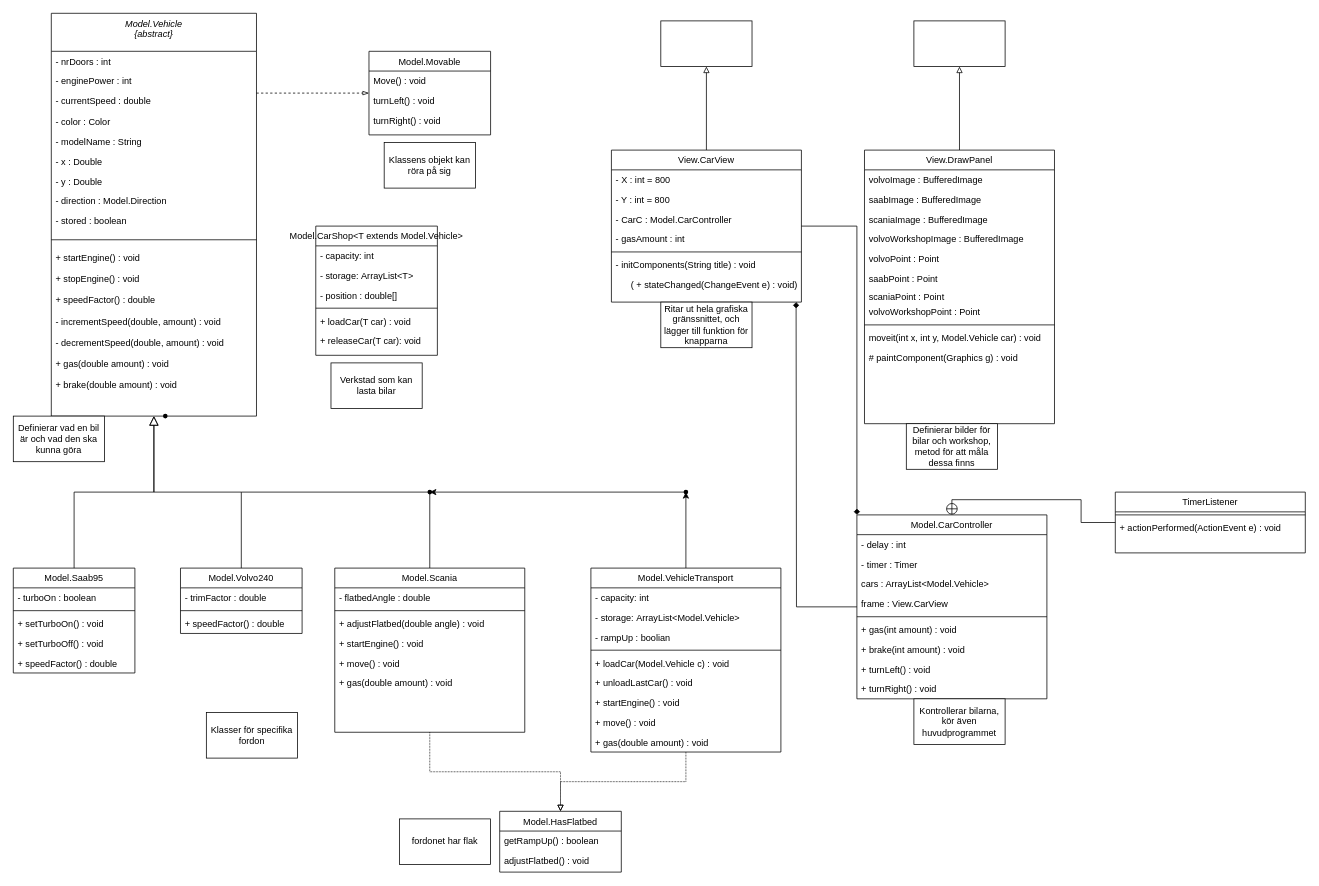
This 1319x886 diagram has some shape labels left out. The shapes that lost their labels are listed below. From the top down, each one's centre as x and y in pixels, then its label:
At point (706, 43): "JFrame".
At point (959, 43): "JPanel".
